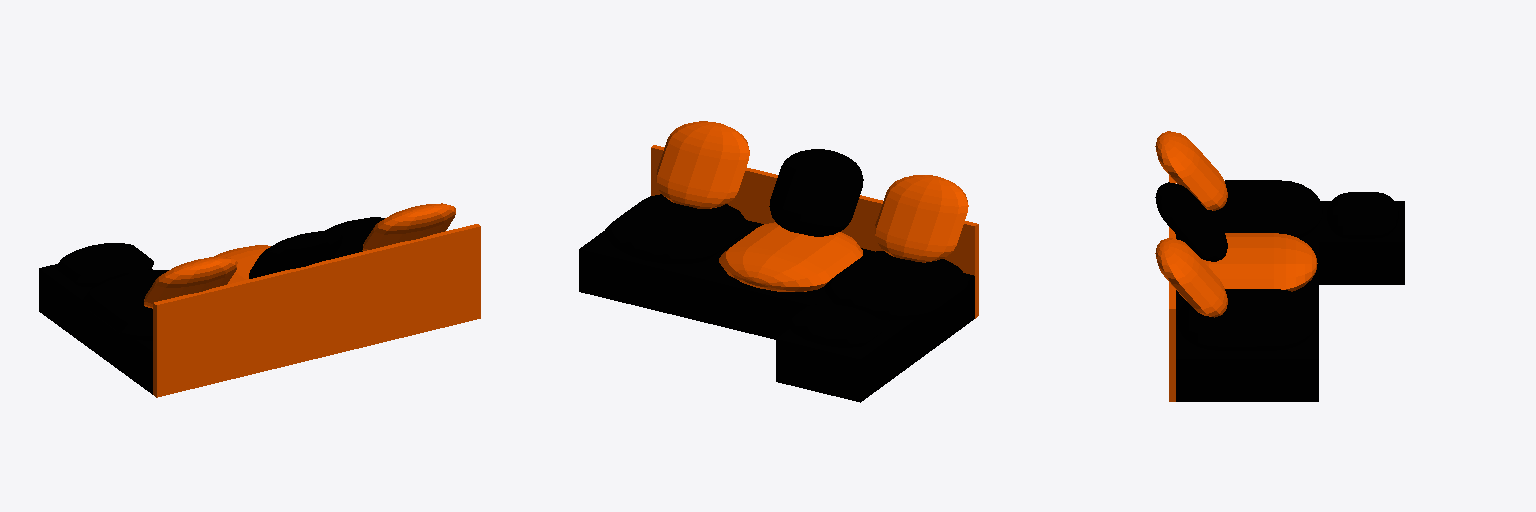
The model's file is sofa.obj.
The picture shows the model from 3 angles: view 1: azimuth 30°, elevation 25°; view 2: azimuth 150°, elevation 25°; view 3: azimuth 270°, elevation 25°; orthographic projection.
Visible parts, largest first — view 1: Box004, Box006, Capsule006, Capsule007, Capsule003, Capsule002, Capsule001, Capsule005, Capsule004; view 2: Box005, Box006, Capsule005, Capsule006, Capsule004, Capsule001, Capsule002, Capsule003, Box004, Capsule007; view 3: Box005, Capsule005, Capsule006, Capsule004, Box006, Capsule001, Capsule002, Capsule003, Capsule007, Box004.
Boxes of the visible parts, x1=… form: Box004: x1=153, y1=224, x2=480, y2=397; Box006: x1=39, y1=264, x2=152, y2=394; Capsule006: x1=83, y1=270, x2=168, y2=340; Capsule007: x1=56, y1=243, x2=153, y2=286; Capsule003: x1=144, y1=257, x2=237, y2=308; Capsule002: x1=249, y1=231, x2=342, y2=278; Capsule001: x1=362, y1=203, x2=455, y2=250; Capsule005: x1=325, y1=217, x2=384, y2=258; Capsule004: x1=214, y1=245, x2=270, y2=284; Box005: x1=579, y1=220, x2=874, y2=339; Box006: x1=776, y1=273, x2=974, y2=402; Capsule005: x1=605, y1=194, x2=748, y2=263; Capsule006: x1=825, y1=251, x2=967, y2=320; Capsule004: x1=719, y1=222, x2=862, y2=291; Capsule001: x1=656, y1=121, x2=749, y2=208; Capsule002: x1=769, y1=149, x2=863, y2=236; Capsule003: x1=875, y1=175, x2=968, y2=262; Box004: x1=651, y1=145, x2=978, y2=318; Capsule007: x1=787, y1=304, x2=884, y2=347; Box005: x1=1176, y1=242, x2=1318, y2=401; Capsule005: x1=1177, y1=289, x2=1317, y2=350; Capsule006: x1=1208, y1=180, x2=1322, y2=237; Capsule004: x1=1202, y1=233, x2=1317, y2=291; Box006: x1=1176, y1=201, x2=1404, y2=284; Capsule001: x1=1155, y1=238, x2=1227, y2=317; Capsule002: x1=1155, y1=182, x2=1227, y2=261; Capsule003: x1=1155, y1=131, x2=1227, y2=210; Capsule007: x1=1327, y1=192, x2=1398, y2=238; Box004: x1=1169, y1=176, x2=1175, y2=401.
Size of the model in its own units: 84.72 by 30.22 by 53.98.